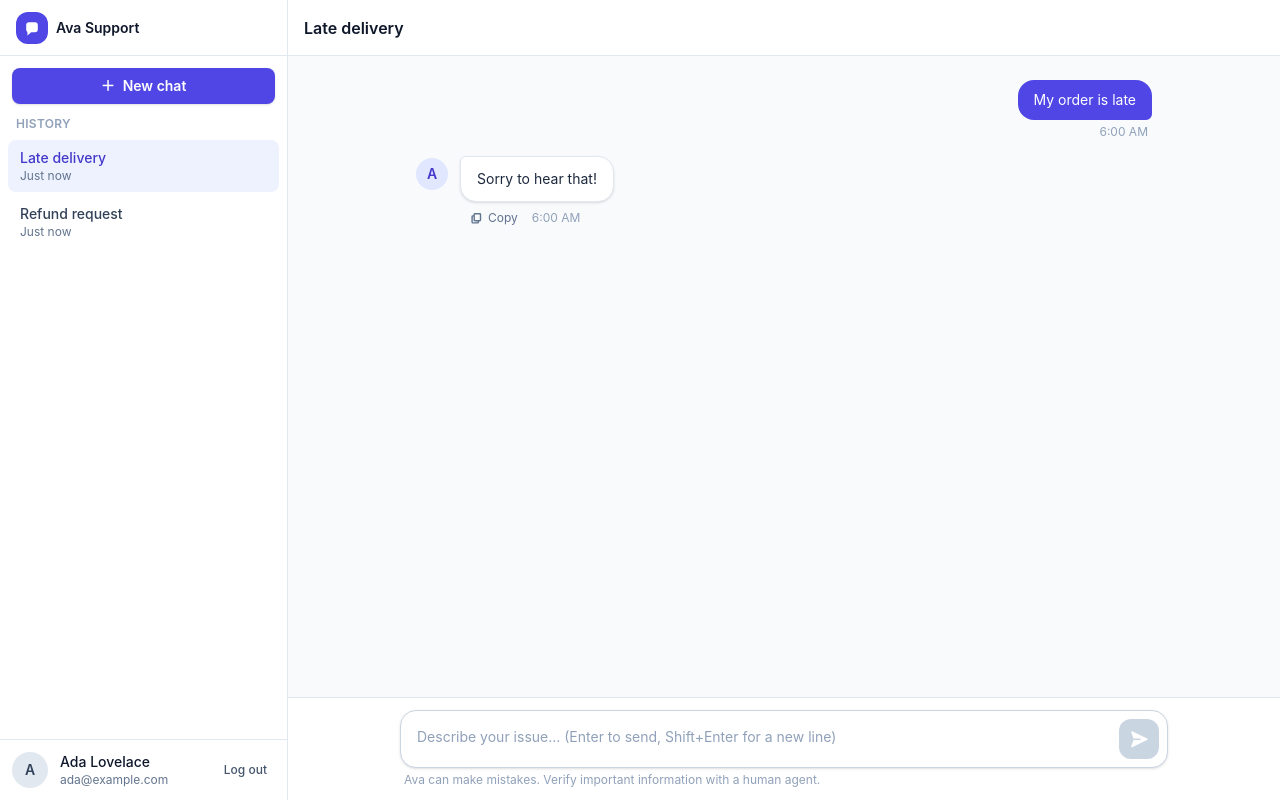
Test: Chat dashboard › does not inject a late reply into a different conversation (rapid switching)
The width and height of the screenshot is (1280, 800).
Check: the text "Sorry to hear that!" is shown, box x1=477 y1=169 x2=597 y2=189
Type "Slow question" into the text box named "Message". click: point(760, 739)
box: x1=409 y1=719 x2=1111 y2=759
Then press Enter
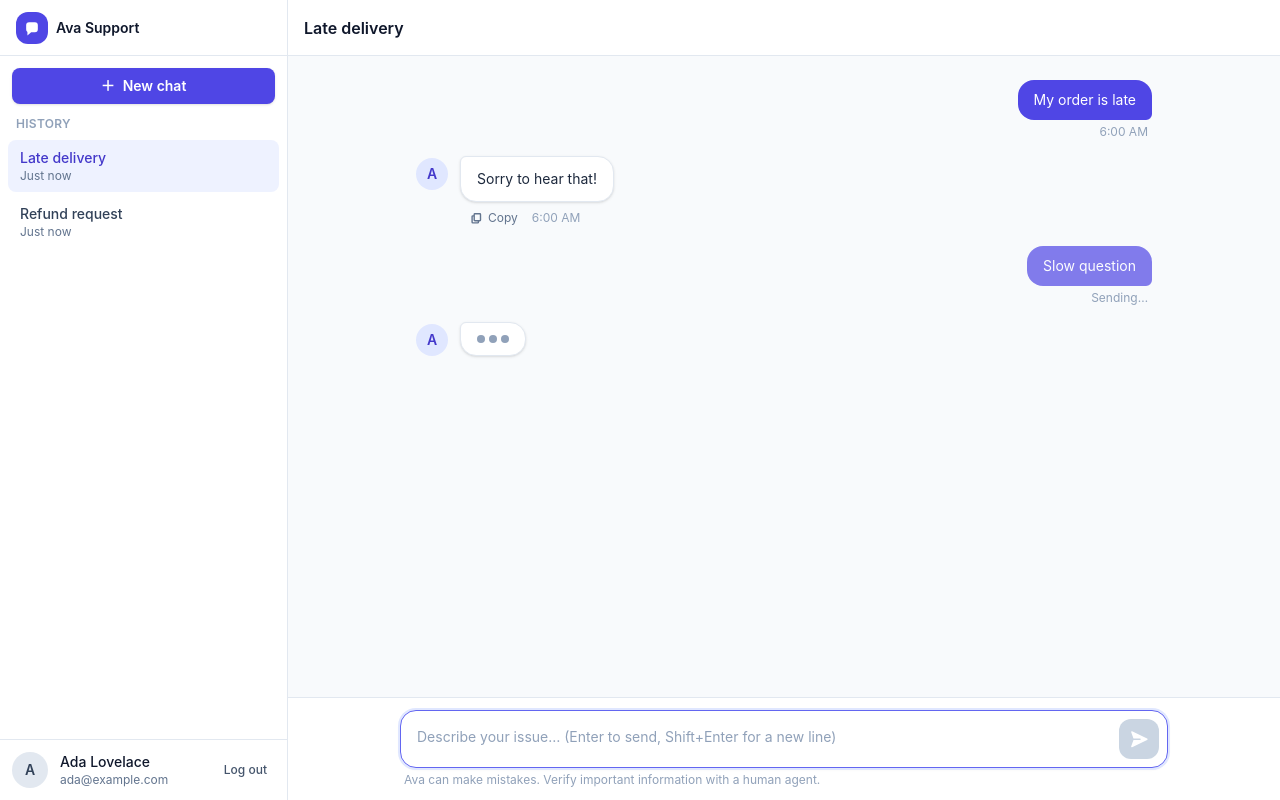
Click the button "Refund request Just now". click: point(71, 214)
box: x1=8 y1=196 x2=279 y2=248
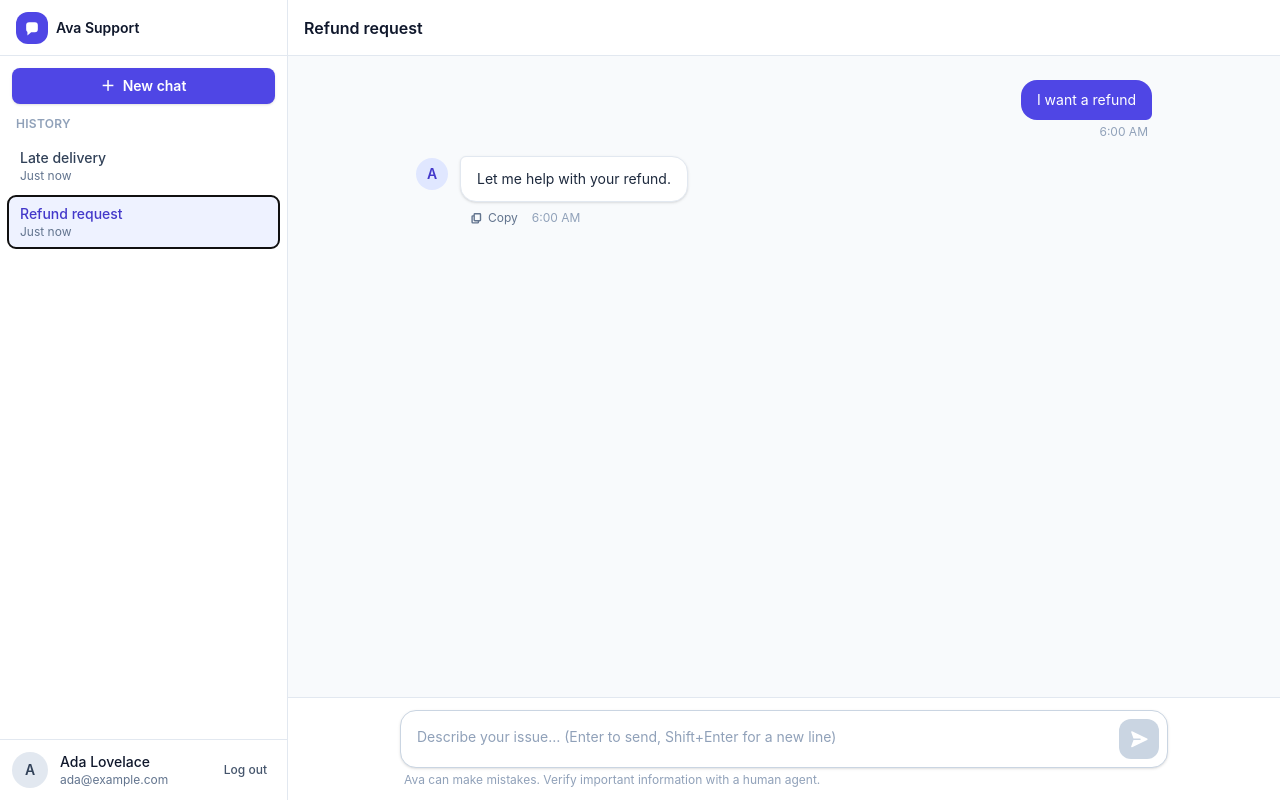
Check: the text "Assistant is typing…" is not shown
Check: the text "Let me help with your refund." is shown, box x1=477 y1=169 x2=671 y2=189
Check: the number of elements with test id "message" is 2, box x1=1021 y1=80 x2=1152 y2=139; x1=416 y1=156 x2=688 y2=230
